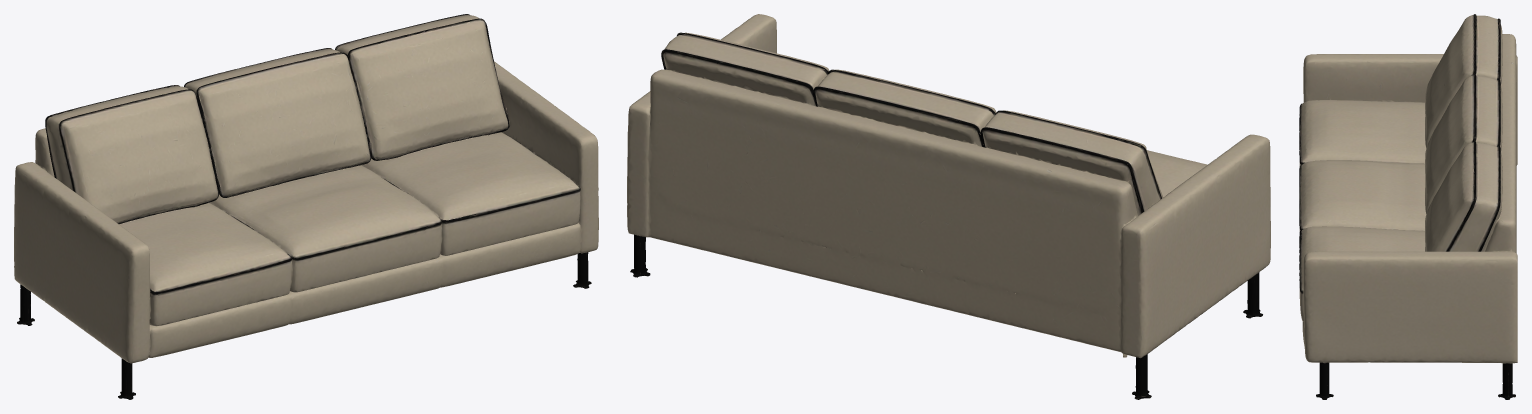
Rendered from sofa.glb.
3 renders of one model, left to right at view 1: azimuth 30°, elevation 25°; view 2: azimuth 150°, elevation 25°; view 3: azimuth 270°, elevation 25°, orthographic. The views are drawn at different scales.
Parts seen in each view (by area): view 1: world; view 2: world; view 3: world.
Boxes of the visible parts, box(x1,y1,x2,y2) form: world: box(14, 14, 598, 399); world: box(627, 14, 1270, 399); world: box(1299, 14, 1517, 399).
Bounding box in the file's own units: 1 × 0.4277 × 0.4431.
Materials: 1 (1 with a texture image).
